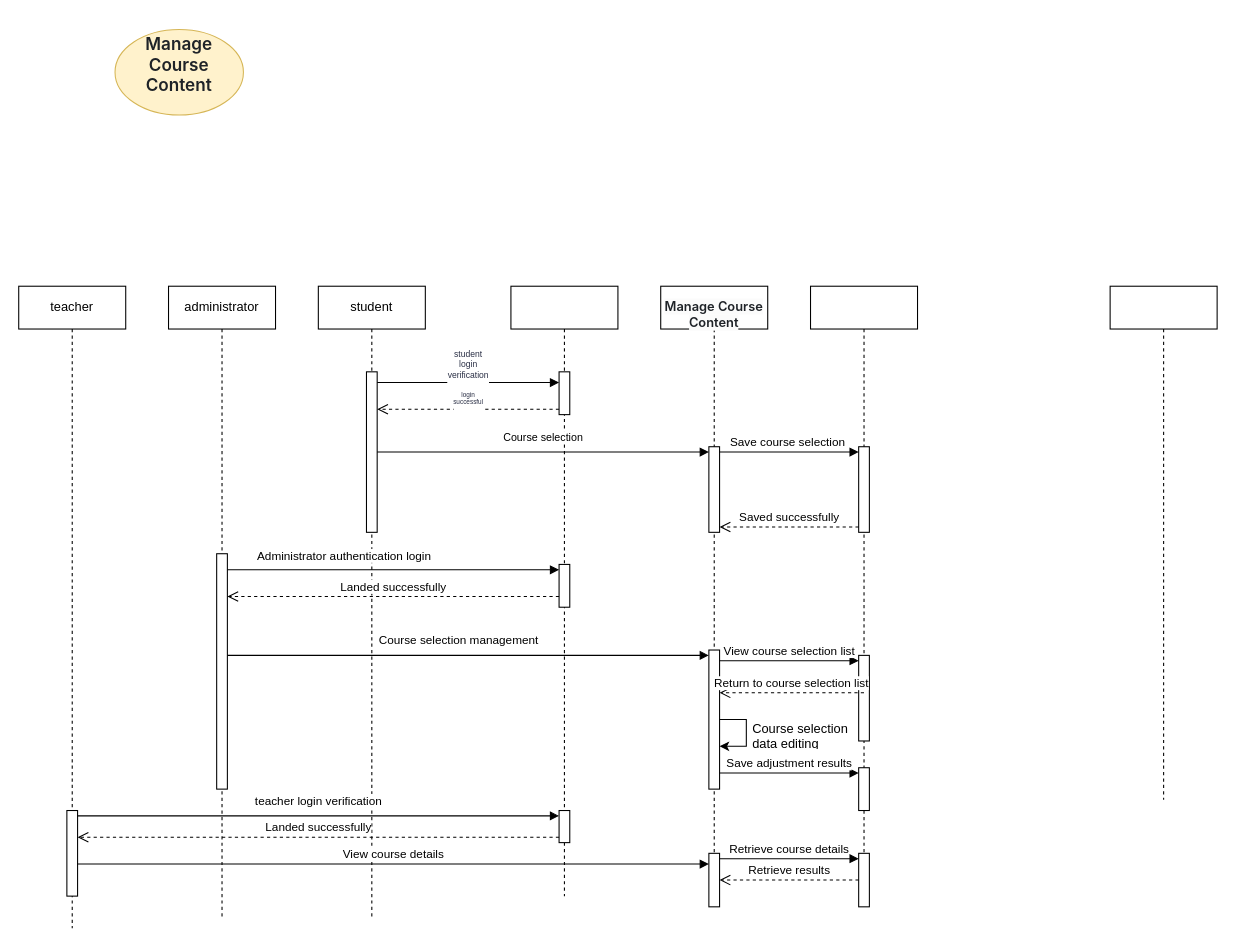
Image size: 1236x947. Some labels were removed from this diagram. The shapes that lost their labels are listed below. From the top down, each one's box as (x1, y1, x2, y2) in pixels, then its label:
(1109, 285, 1217, 800): Teachers basic information
(510, 285, 618, 896): Login and permission
(809, 285, 918, 907): database
